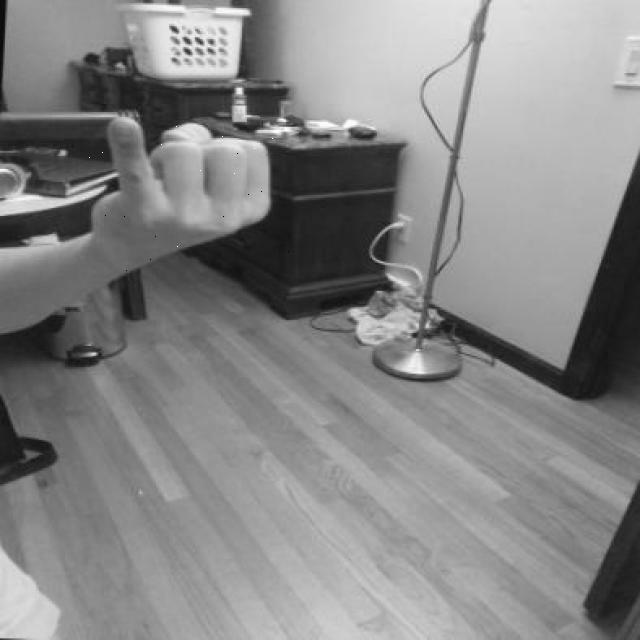J: (81, 110, 289, 279)
